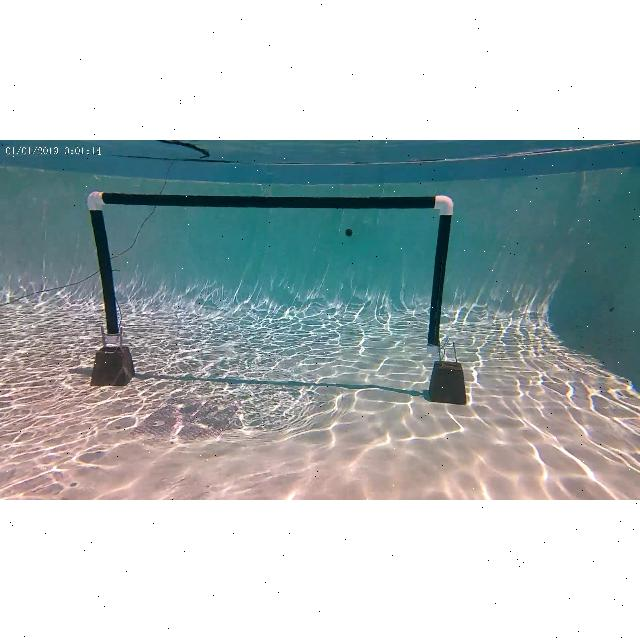prequal gate: (87, 190, 455, 348)
prequal gate leg l: (81, 188, 135, 354)
prequal gate leg r: (419, 188, 458, 370)
